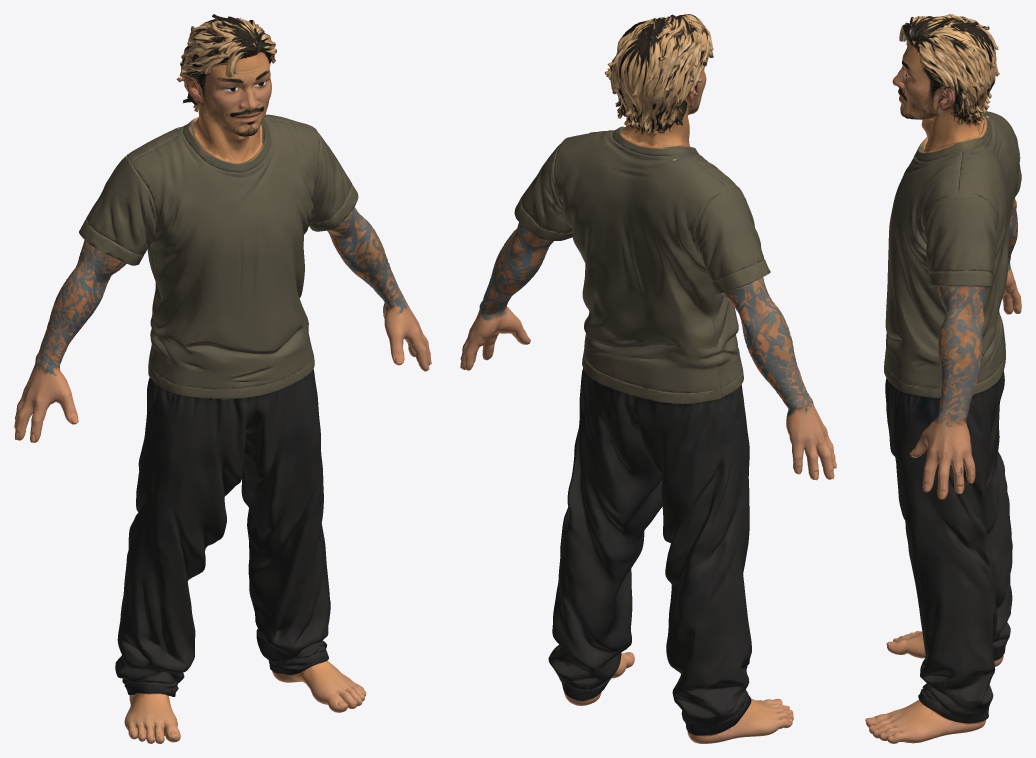
Rendered from jinsoo_seo_v2_front.glb.
The picture shows the model from 3 angles, left to right: view 1: azimuth 30°, elevation 25°; view 2: azimuth 150°, elevation 25°; view 3: azimuth 270°, elevation 25°; orthographic projection. The views are drawn at different scales.
Visible parts, largest first — view 1: tripo_node_b62c8c2e-5147-40a2-95df-53c82b54eace; view 2: tripo_node_b62c8c2e-5147-40a2-95df-53c82b54eace; view 3: tripo_node_b62c8c2e-5147-40a2-95df-53c82b54eace.
Boxes of the visible parts, bbox=[...] form: tripo_node_b62c8c2e-5147-40a2-95df-53c82b54eace: bbox=[14, 14, 431, 743]; tripo_node_b62c8c2e-5147-40a2-95df-53c82b54eace: bbox=[460, 14, 836, 743]; tripo_node_b62c8c2e-5147-40a2-95df-53c82b54eace: bbox=[865, 14, 1021, 743].
Bounding box in the file's own units: 1.01 × 1.7 × 0.3556.
Materials: 1 (1 with a texture image).
